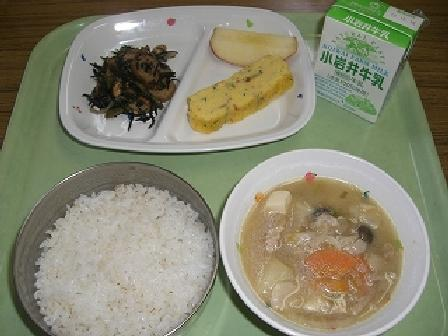Apple: (208, 20, 302, 65)
Bread: (184, 60, 290, 132)
Milk: (308, 3, 429, 105)
Rice: (11, 177, 216, 332)
Soups: (230, 164, 420, 334)
salad with sauce: (74, 41, 177, 127)
